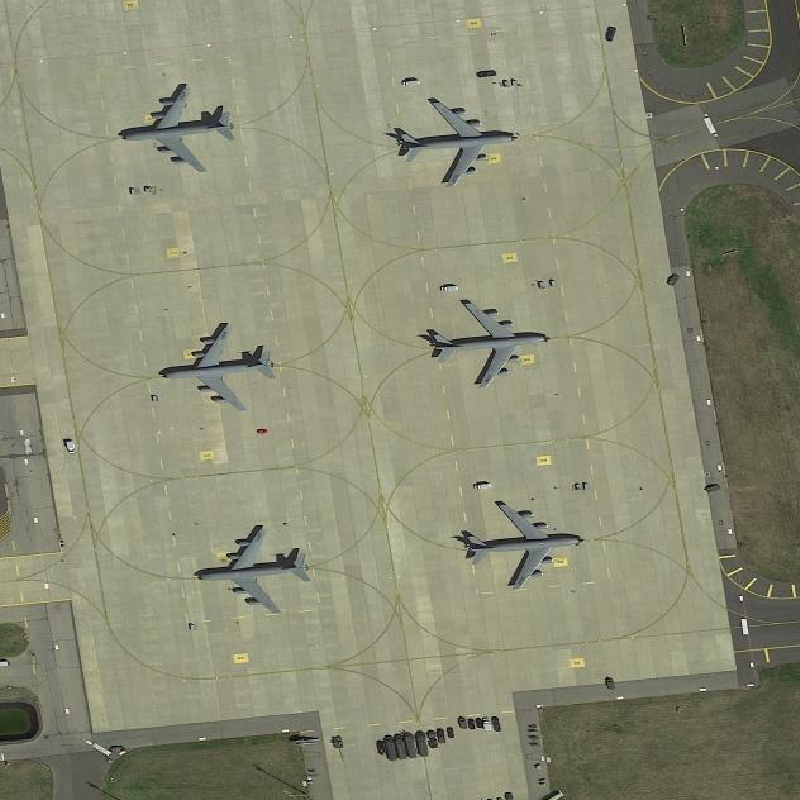A14: (461, 498, 589, 595), (424, 296, 553, 391), (395, 96, 522, 191), (189, 522, 314, 618), (155, 321, 281, 416), (118, 80, 239, 175)
